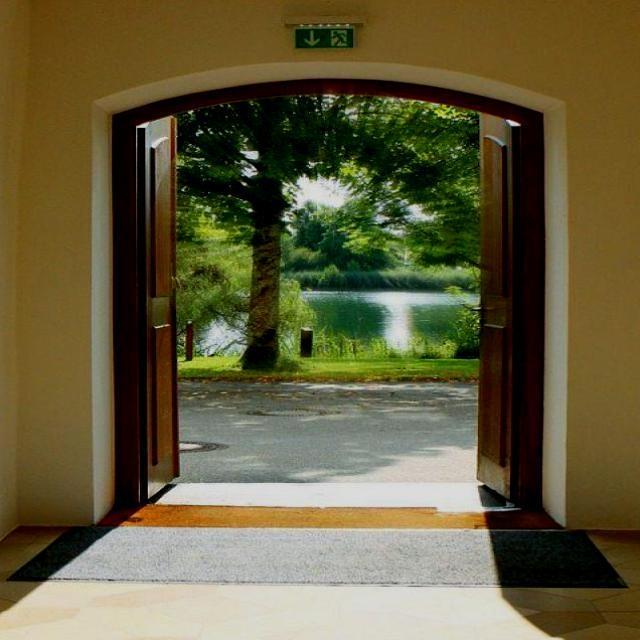door: (113, 106, 186, 520), (462, 94, 527, 513)
